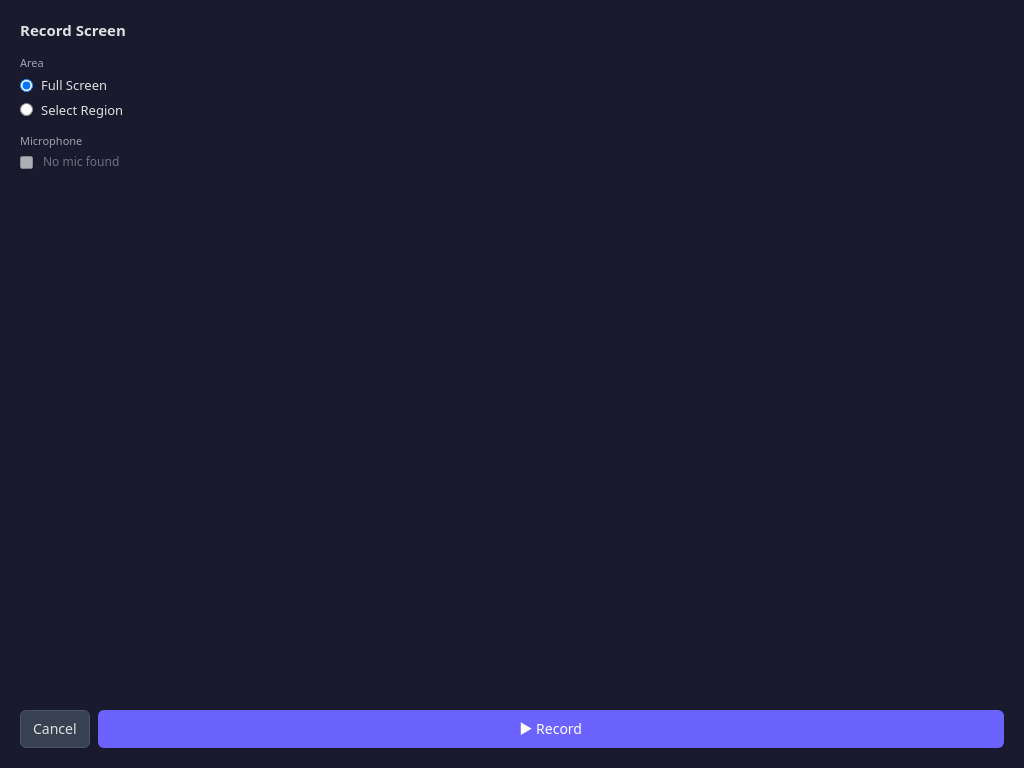
Test: RecordingOptionsPanel › Record button disables and shows countdown when clicked
Click the button with test id "record-btn". click: (551,729)
box: [98,710,1004,748]
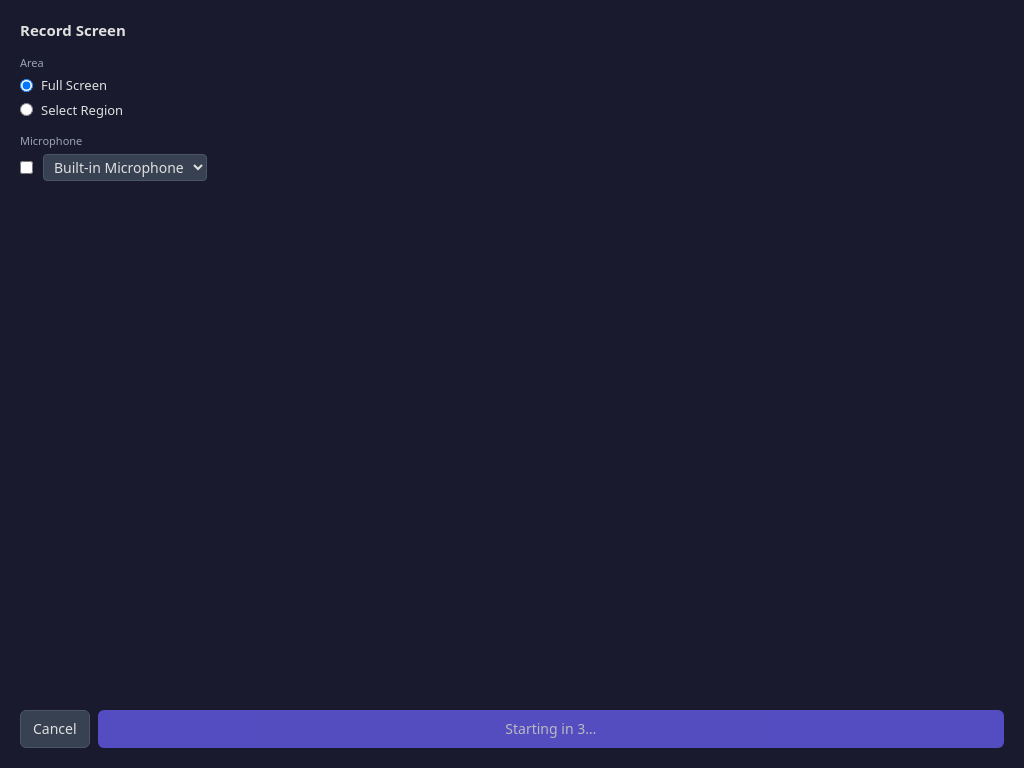
Result: the button with test id "record-btn" shows "Starting in" at [98,710,1004,748]
